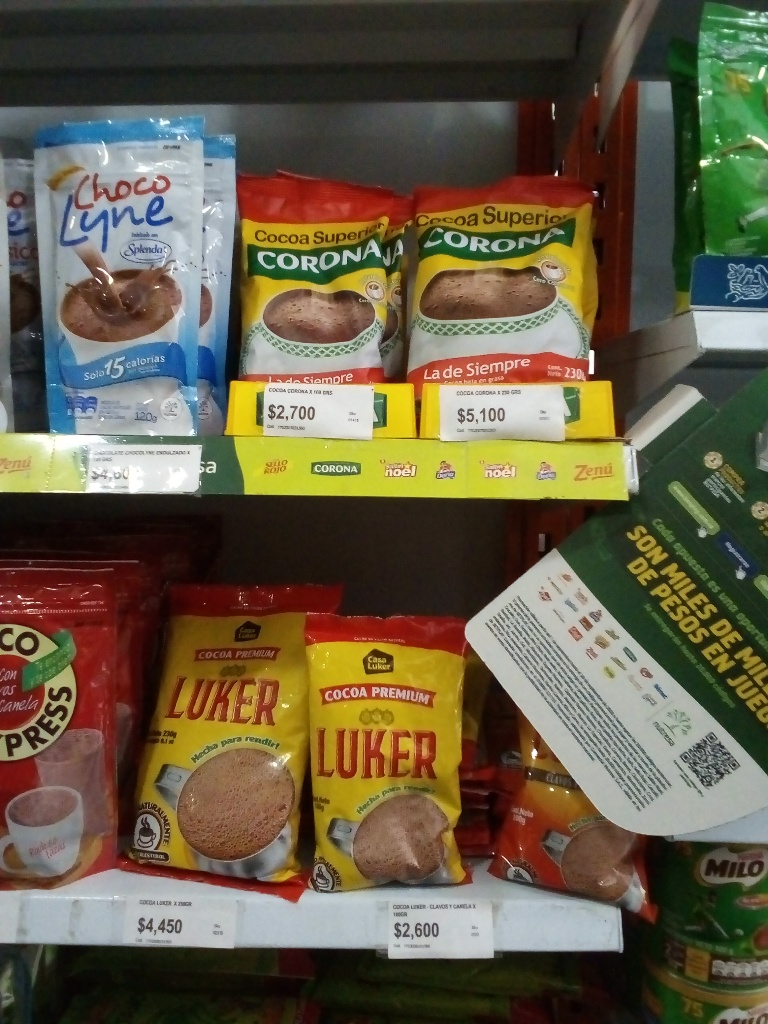COL0170203LAT40000: (640, 844, 766, 987)
